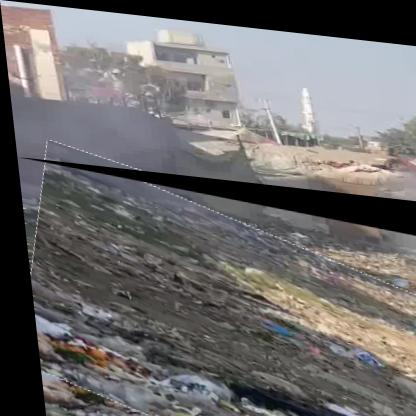Garbage: (14, 158, 416, 416)
